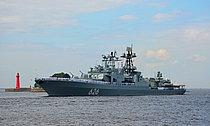MIL_Ship: (33, 43, 187, 97)
